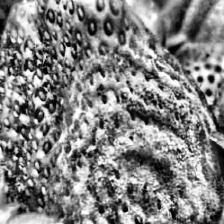Gray Mold: (17, 0, 224, 224)
